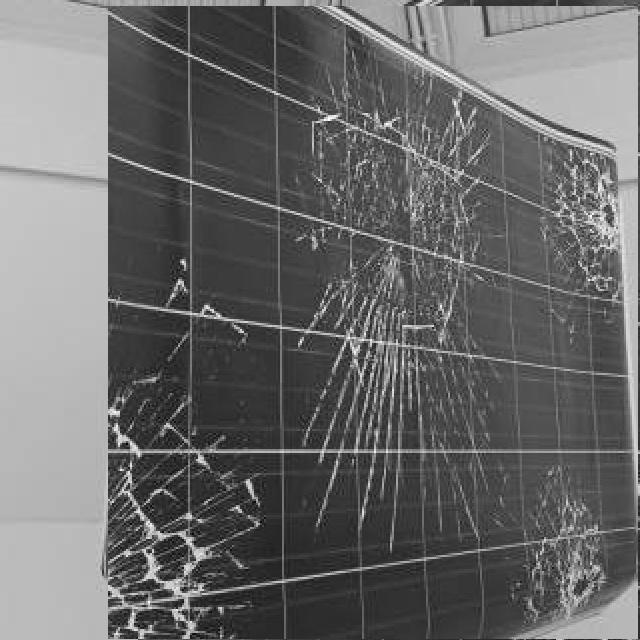Anomaly Solar Panel: (107, 5, 637, 639)
Structural Damage: (292, 15, 502, 554), (109, 249, 259, 640), (500, 452, 615, 635), (533, 146, 619, 316)
